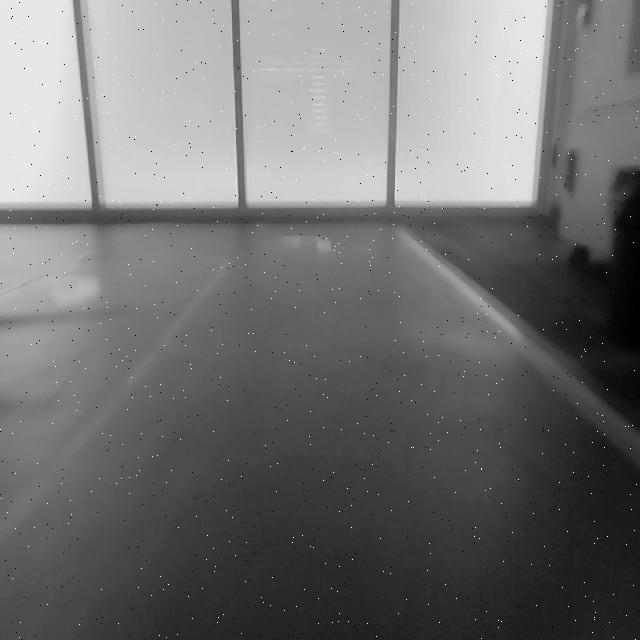left_lane: (0, 265, 230, 556)
right_lane: (401, 234, 640, 462)
